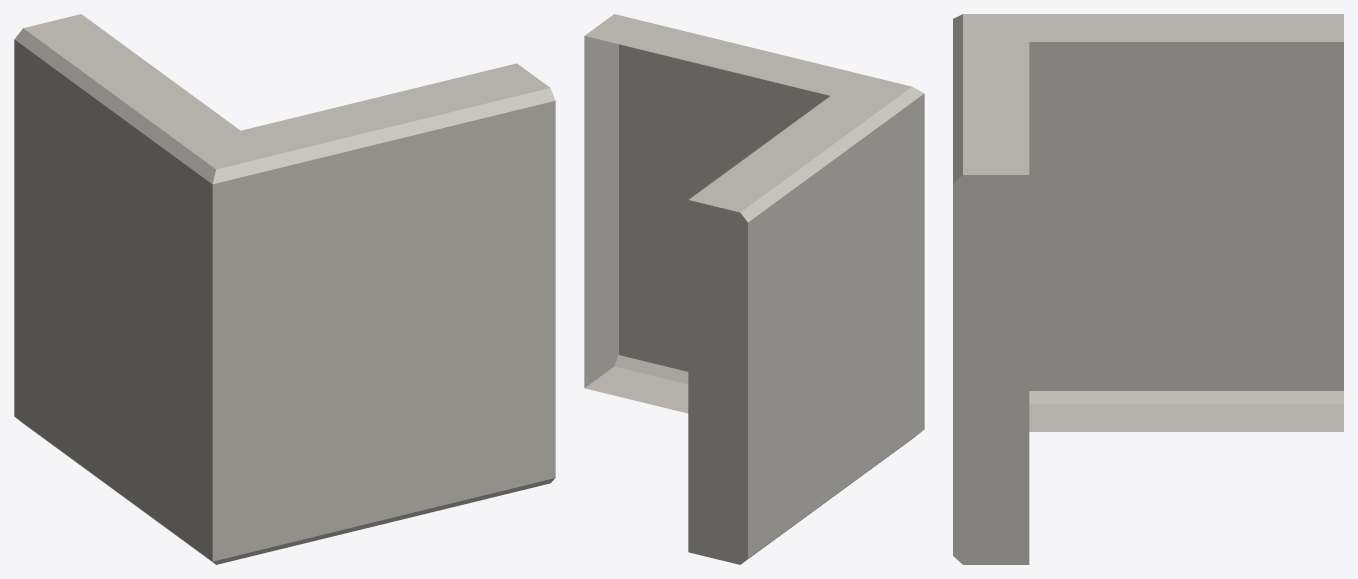
The model's file is SC_Bld_Villa_Slab_Band_Corner.gltf.
The picture shows the model from 3 angles, left to right: view 1: azimuth 30°, elevation 25°; view 2: azimuth 150°, elevation 25°; view 3: azimuth 270°, elevation 25°; orthographic projection. The views are drawn at different scales.
Parts seen in each view (by area): view 1: SC_Bld_Villa_Slab_Band_Corner; view 2: SC_Bld_Villa_Slab_Band_Corner; view 3: SC_Bld_Villa_Slab_Band_Corner.
Part boxes in pixels (x1=…): SC_Bld_Villa_Slab_Band_Corner: x1=14, y1=14, x2=555, y2=564; SC_Bld_Villa_Slab_Band_Corner: x1=584, y1=14, x2=924, y2=564; SC_Bld_Villa_Slab_Band_Corner: x1=953, y1=14, x2=1343, y2=564.
Size of the model in its own units: 0.236 by 0.26 by 0.236.
Materials: 1 (1 with a texture image).
